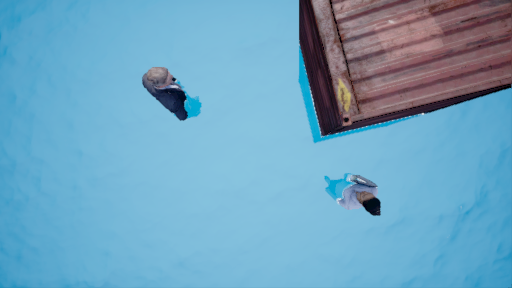person: (136, 64, 207, 127), (314, 163, 382, 221)
